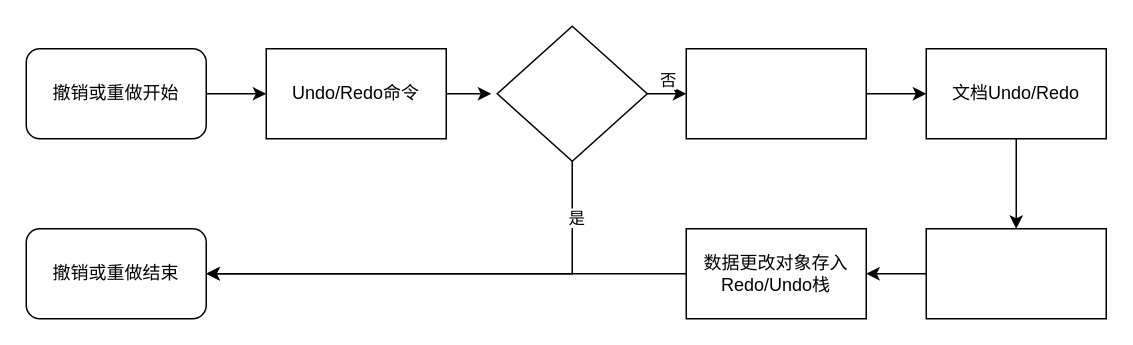
The diagram is 1133 pixels wide and 345 high, and some of its shapes have lost their labels. The centre of each missing label's shape, as x and y in pixels:
"Undo/Redo栈 是否为空" goes at pixel 571 93.
"Undo/Redo栈弹出栈顶对象" goes at pixel 775 93.
"数据更改对象调用Undo/Redo虚函数" goes at pixel 1015 273.
